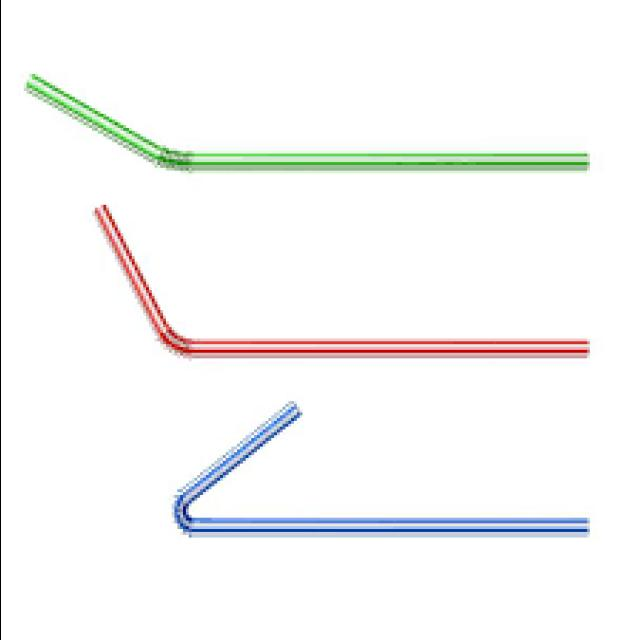straw: (92, 208, 587, 359), (172, 402, 587, 535), (25, 75, 587, 170)
